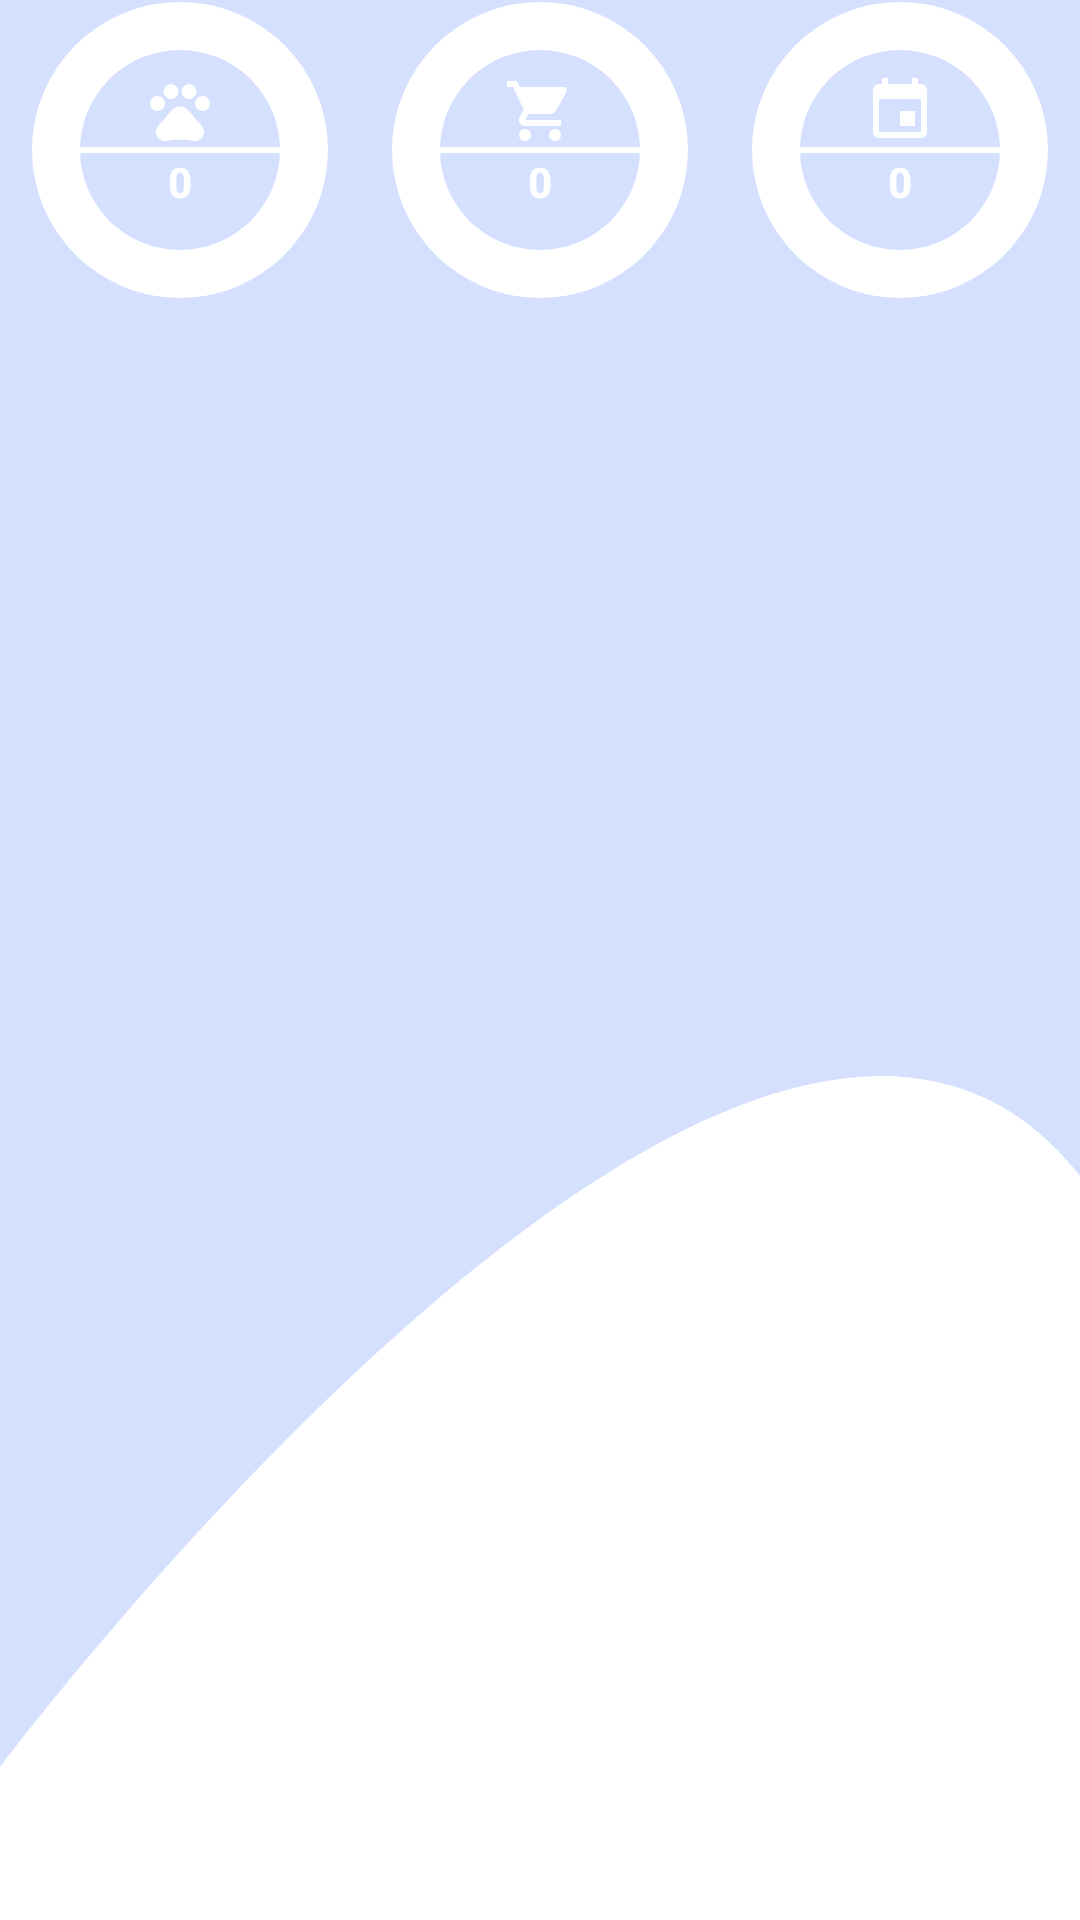

Named icons in this screenshot (1080 x 1920) and their centers, [x,y]:
event: [900,108]
pets: [180,112]
store: [537,111]
